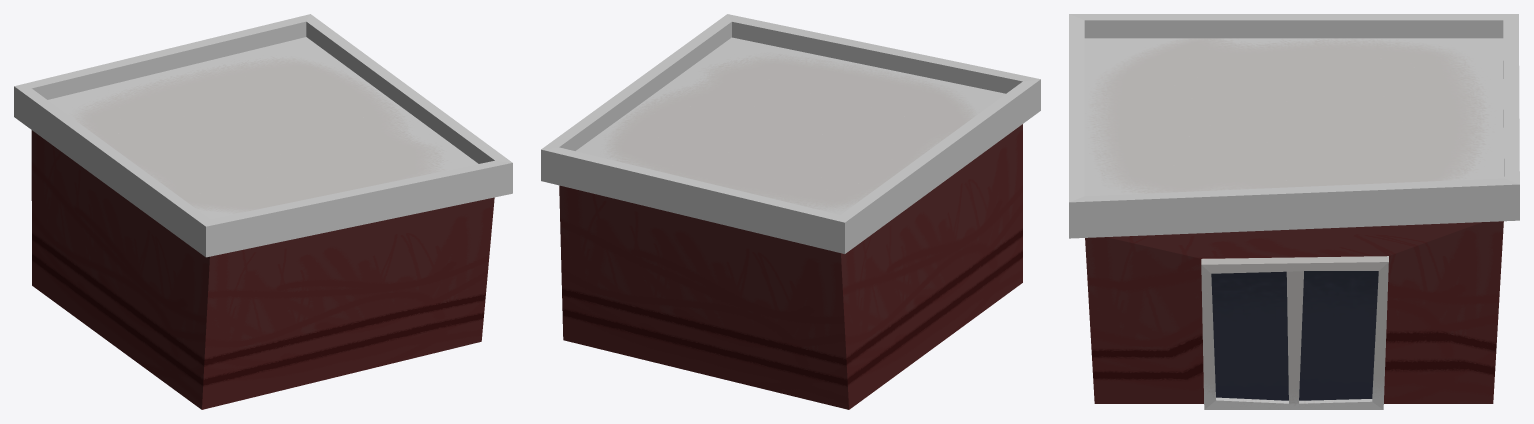
Rendered from shop-textured.fbx.
The picture shows the model from 3 angles, left to right: view 1: azimuth 30°, elevation 25°; view 2: azimuth 150°, elevation 25°; view 3: azimuth 270°, elevation 25°; orthographic projection. The views are drawn at different scales.
Visible parts, largest first — view 1: shop; view 2: shop; view 3: shop.
Boxes of the visible parts, bbox=[...] form: shop: bbox=[14, 14, 512, 409]; shop: bbox=[541, 14, 1040, 409]; shop: bbox=[1069, 14, 1519, 409].
Size of the model in its own units: 417 by 250 by 452.
